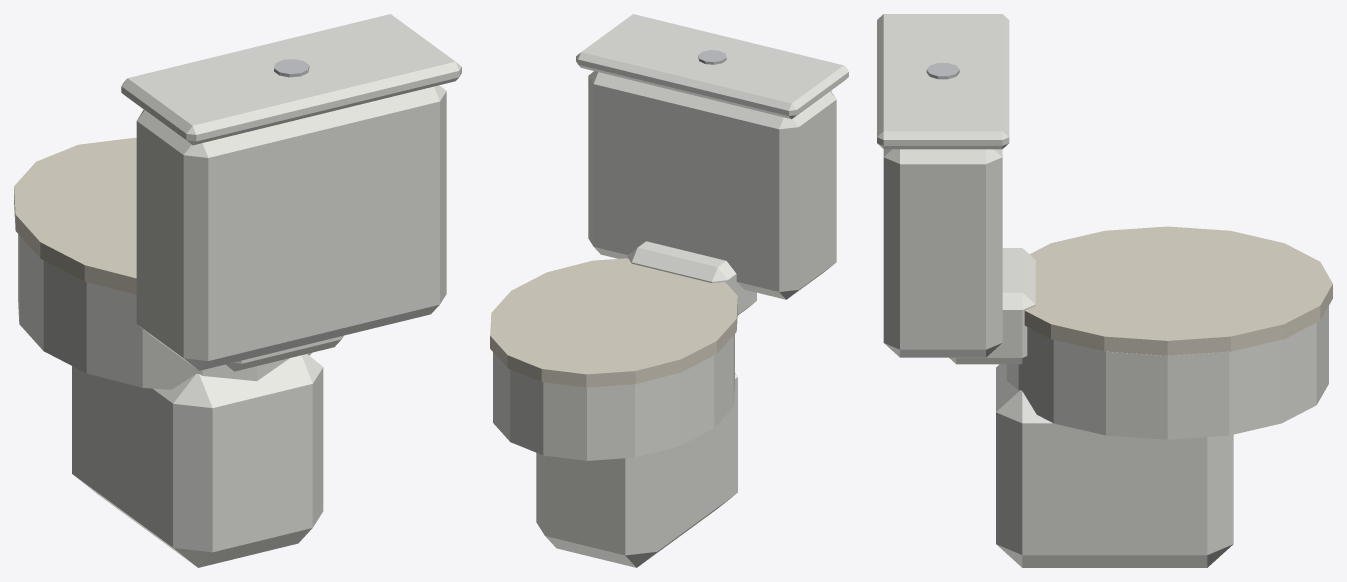
Rendered from toilet.glb.
The picture shows the model from 3 angles, left to right: view 1: azimuth 30°, elevation 25°; view 2: azimuth 150°, elevation 25°; view 3: azimuth 270°, elevation 25°; orthographic projection. The views are drawn at different scales.
Parts seen in each view (by area): view 1: toilet; view 2: toilet; view 3: toilet.
Boxes of the visible parts, <box> form: toilet: <box>14,14,461,567</box>; toilet: <box>490,14,848,567</box>; toilet: <box>877,14,1332,567</box>.
Bounding box in the file's own units: 0.44 × 0.795 × 0.6901.
